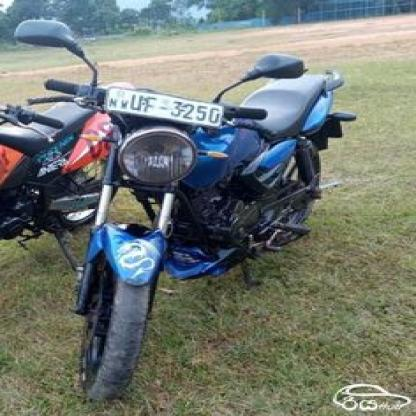bike front: (13, 17, 357, 402)
number plate: (108, 81, 225, 129)
